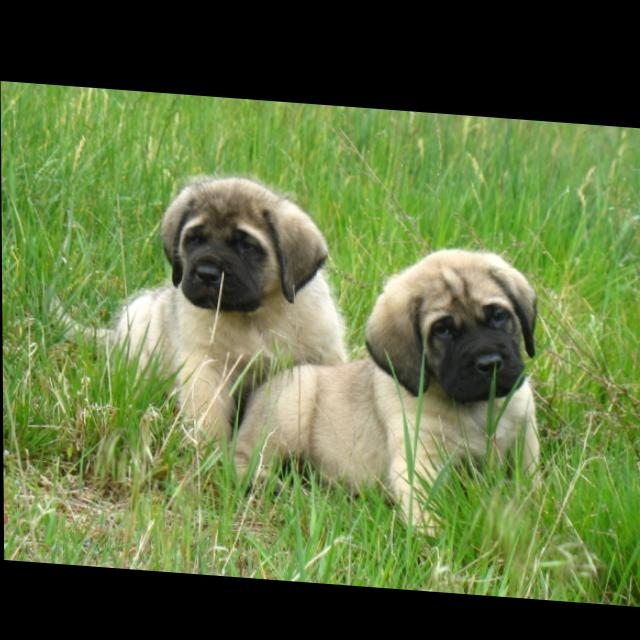mastiff: (230, 226, 542, 538), (46, 161, 350, 460)
